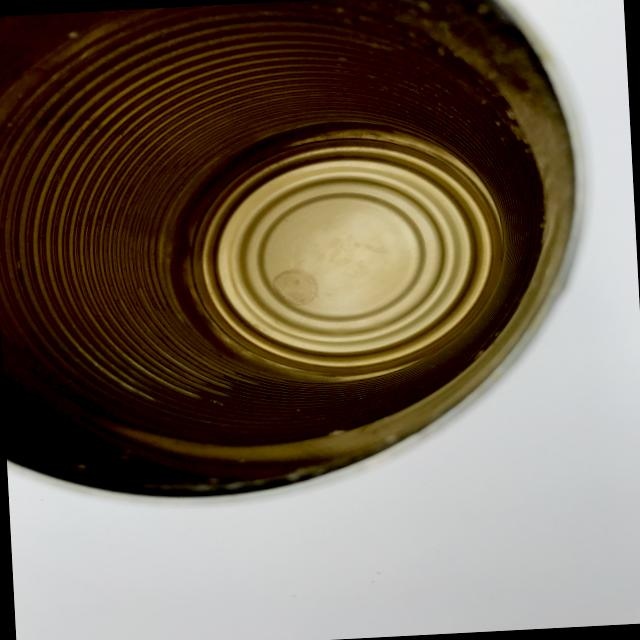Metal: (0, 0, 615, 529)
